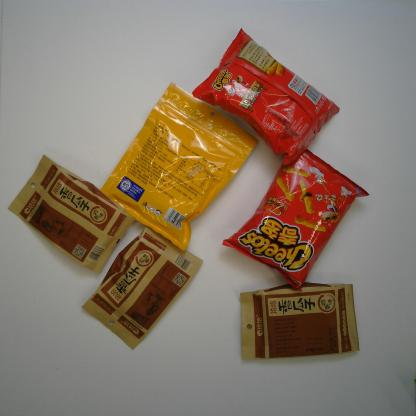Dried Food: (80, 224, 204, 351), (6, 153, 135, 275), (239, 280, 360, 362)
Dried Fruit: (100, 80, 259, 253)
Puffed Food: (222, 149, 370, 292), (192, 26, 340, 168)
